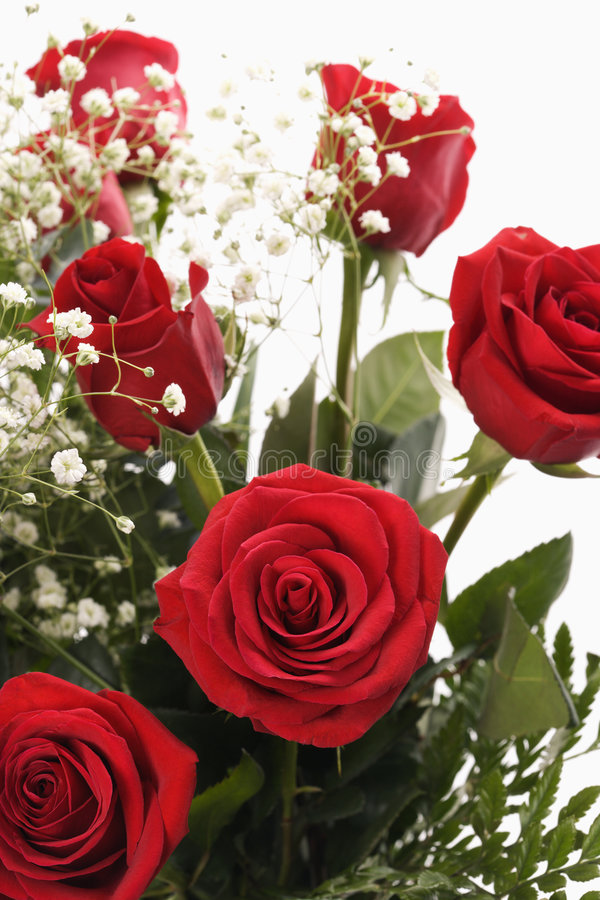RedRose: (142, 459, 463, 765), (0, 653, 240, 900), (22, 199, 232, 467), (429, 205, 600, 495), (302, 65, 491, 260), (23, 23, 207, 172)
